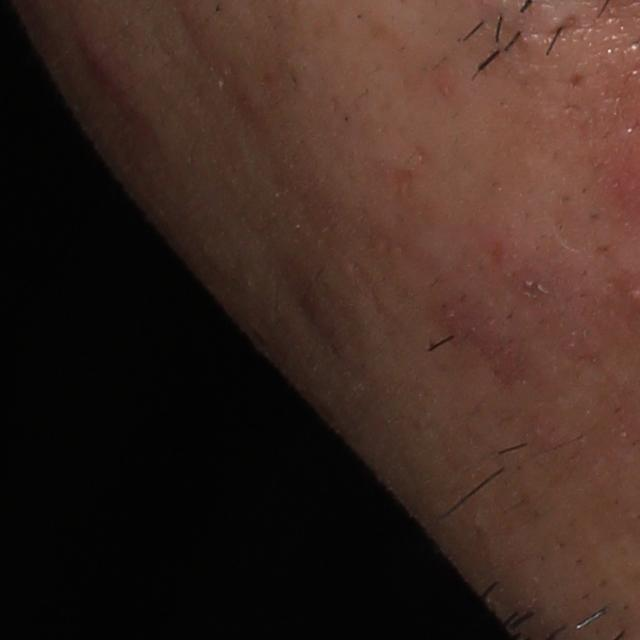papule: (72, 19, 142, 94)
